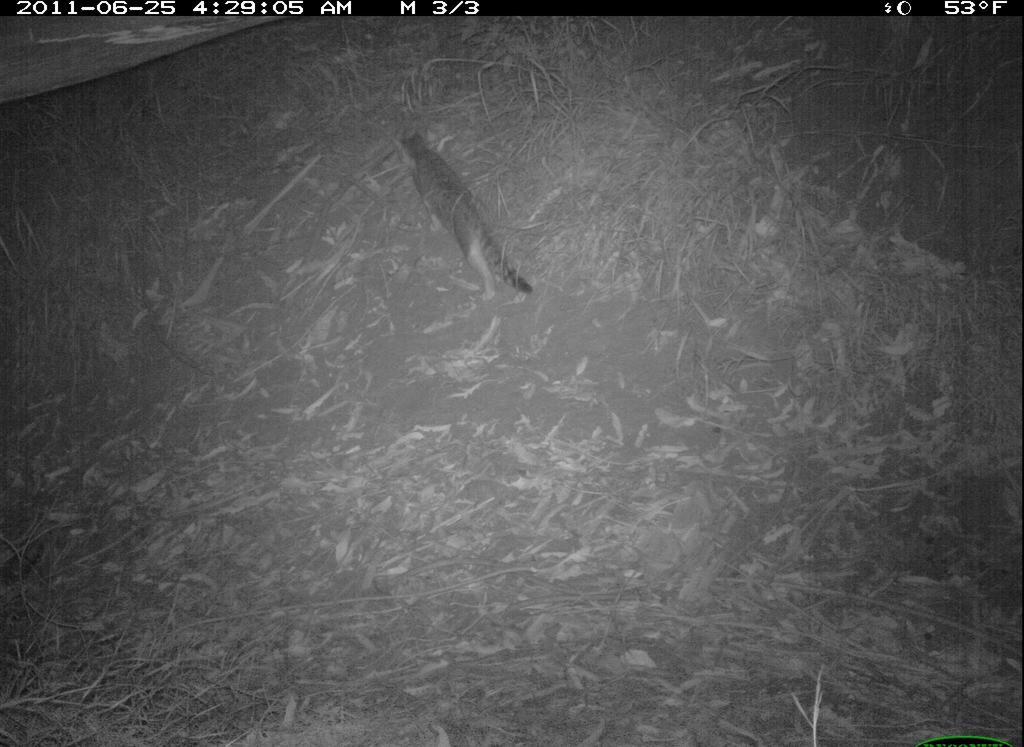cat: (391, 121, 544, 314)
